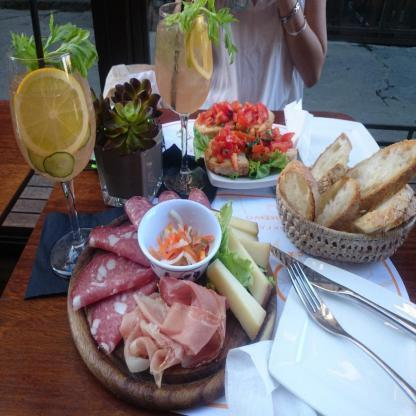lemon: (14, 67, 91, 159), (184, 14, 210, 81)
